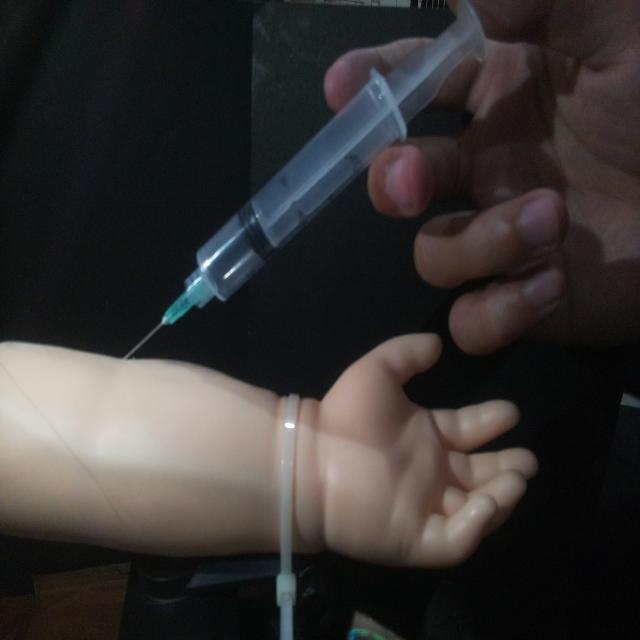30deg: (117, 4, 489, 362)
